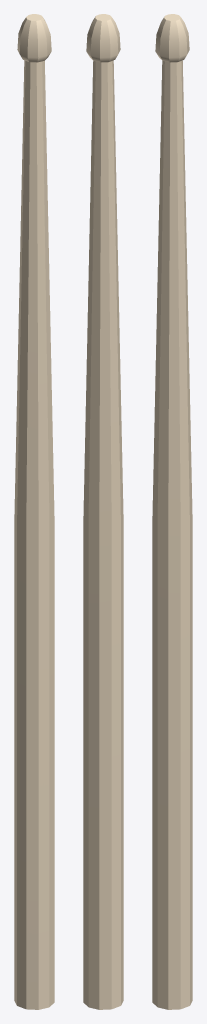
The model's file is drumstick.fbx.
3 views of the same model, side by side, from view 1: azimuth 30°, elevation 25°; view 2: azimuth 150°, elevation 25°; view 3: azimuth 330°, elevation 25° (orthographic).
Visible parts, largest first — view 1: drumstick; view 2: drumstick; view 3: drumstick.
Part boxes in pixels (box(x1,y1,x2,y2)): drumstick: box(14, 14, 54, 1009); drumstick: box(83, 14, 123, 1009); drumstick: box(152, 14, 192, 1009).
Size of the model in its own units: 1.33 by 35.9 by 1.27.
